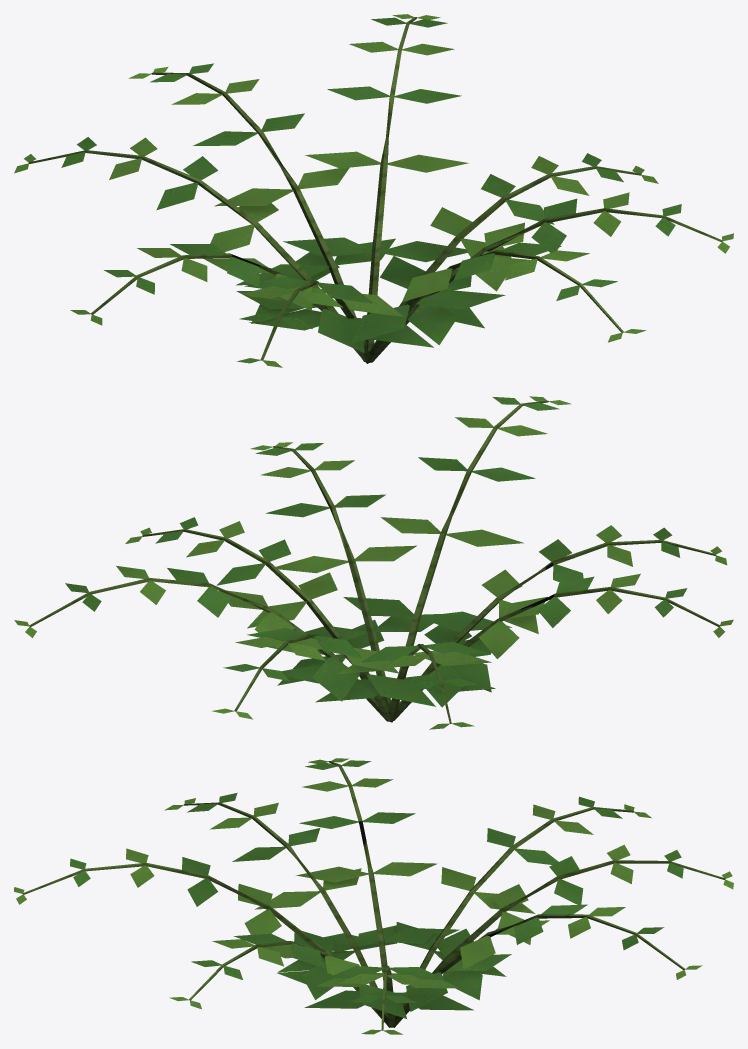
Rendered from bg_forest_fern_1_lod0.glb.
The picture shows the model from 3 angles, top to bottom: view 1: azimuth 30°, elevation 25°; view 2: azimuth 150°, elevation 25°; view 3: azimuth 270°, elevation 25°; orthographic projection. The views are drawn at different scales.
Visible parts, largest first — view 1: sway; view 2: sway; view 3: sway.
Boxes of the visible parts, x1,y1,x2,y2 form: sway: (14,14,733,367); sway: (14,396,733,729); sway: (14,758,733,1034).
Size of the model in its own units: 2.49 by 0.8 by 2.97.
1 material, 1 textured.
